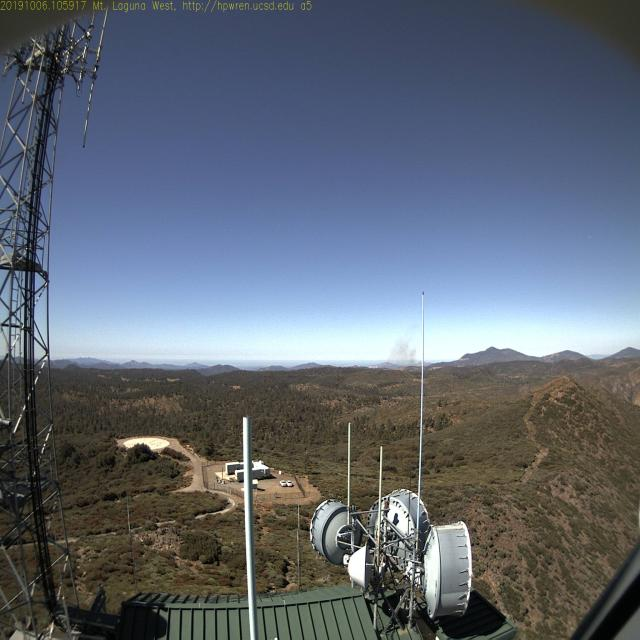smoke: (387, 318, 422, 368)
